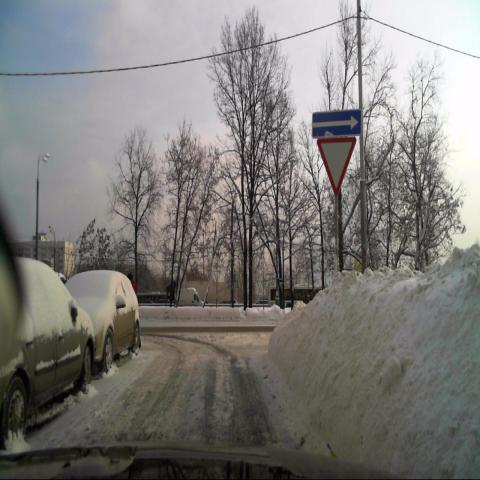5_7_1: (311, 111, 361, 136)
